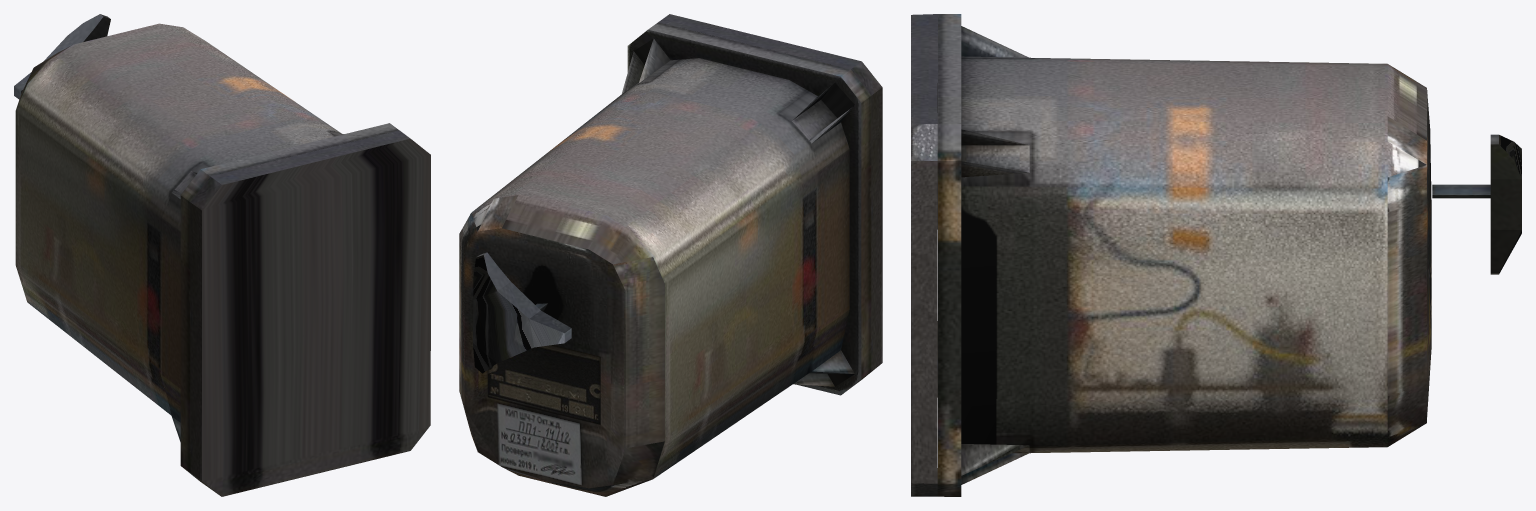
Rendered from sh_mod.fbx.
3 renders of one model, left to right at view 1: azimuth 30°, elevation 25°; view 2: azimuth 150°, elevation 25°; view 3: azimuth 270°, elevation 25°, orthographic. The views are drawn at different scales.
Visible parts, largest first — view 1: shp; view 2: shp; view 3: shp.
Boxes of the visible parts, x1,y1,x2,y2 form: shp: [14, 14, 430, 496]; shp: [459, 14, 882, 496]; shp: [911, 14, 1521, 496].
Size of the model in its own units: 5572 by 7258 by 10776.
1 material, 1 textured.
